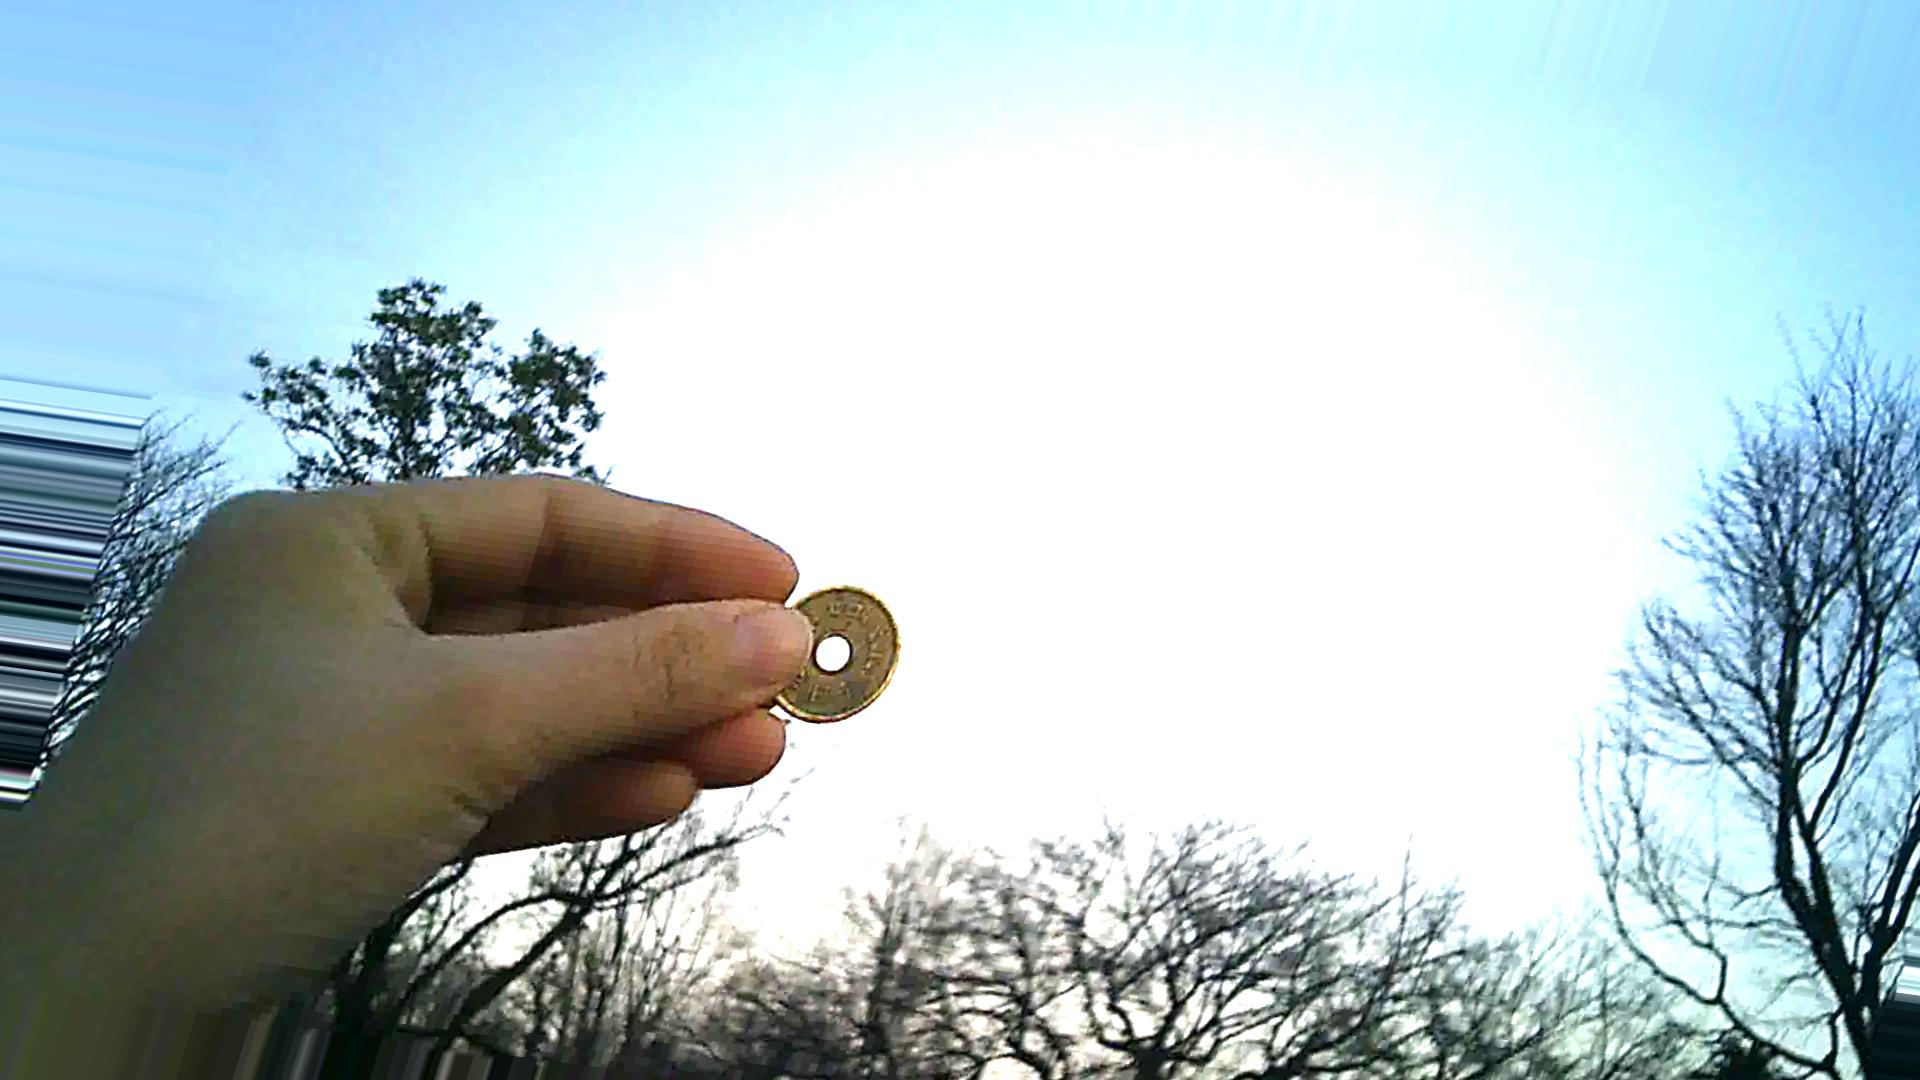5 Yen: (752, 572, 920, 731)
